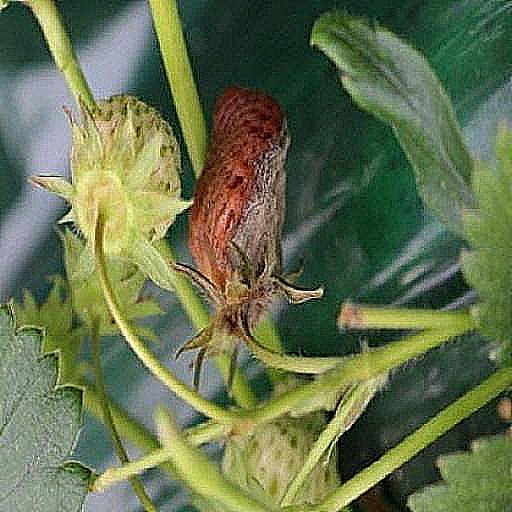Gray Mold: (187, 113, 344, 427)
